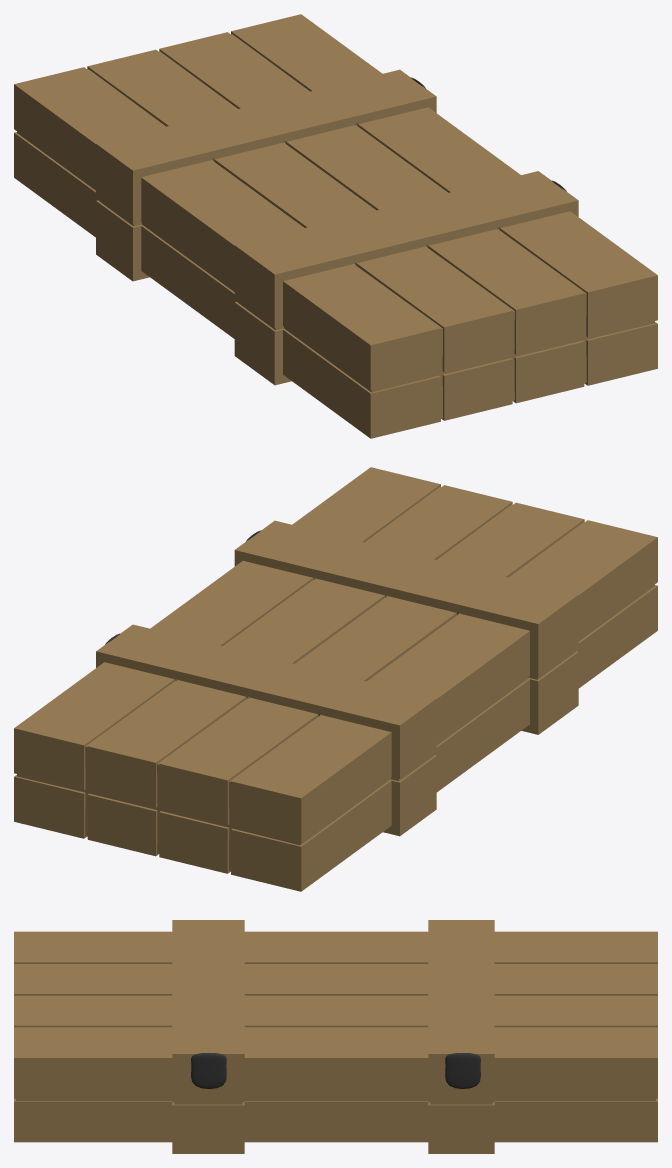
File: NEWGAME_WOOD BOX.fbx
3 views of the same model, one above another, from view 1: azimuth 30°, elevation 25°; view 2: azimuth 150°, elevation 25°; view 3: azimuth 270°, elevation 25° (orthographic). The views are drawn at different scales.
Parts seen in each view (by area): view 1: Cube.082; view 2: Cube.082; view 3: Cube.082, Cube.083.
Boxes of the visible parts, box(x1,y1,x2,y2) form: Cube.082: box(14, 14, 657, 438); Cube.082: box(14, 467, 657, 891); Cube.082: box(14, 920, 657, 1153); Cube.083: box(191, 1053, 480, 1088).
Size of the model in its own units: 854 by 298 by 1722.
